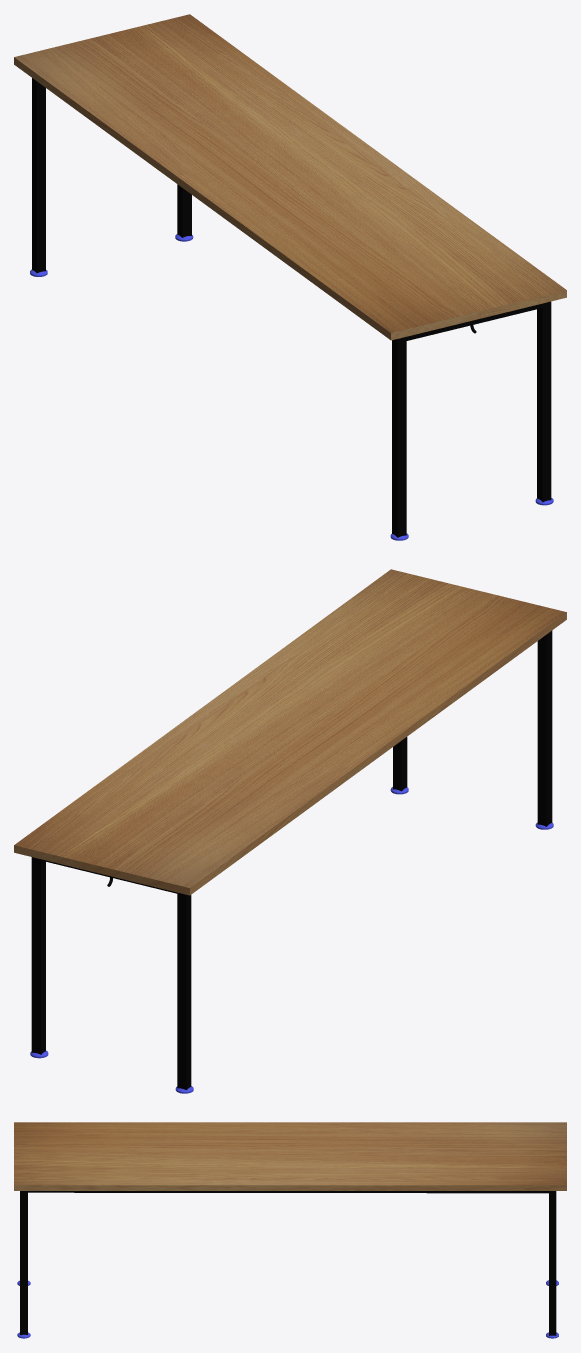
File: awka_na_czeh.fbx
3 renders of one model, top to bottom at view 1: azimuth 30°, elevation 25°; view 2: azimuth 150°, elevation 25°; view 3: azimuth 270°, elevation 25°, orthographic. The views are drawn at different scales.
Visible parts, largest first — view 1: Cylinder.001; view 2: Cylinder.001; view 3: Cylinder.001.
Part boxes in pixels (<box>): Cylinder.001: <box>14,14,566,540</box>; Cylinder.001: <box>14,569,566,1093</box>; Cylinder.001: <box>14,1122,566,1338</box>.
Bounding box in the file's own units: 156 × 180 × 578.
3 materials, 1 textured.
